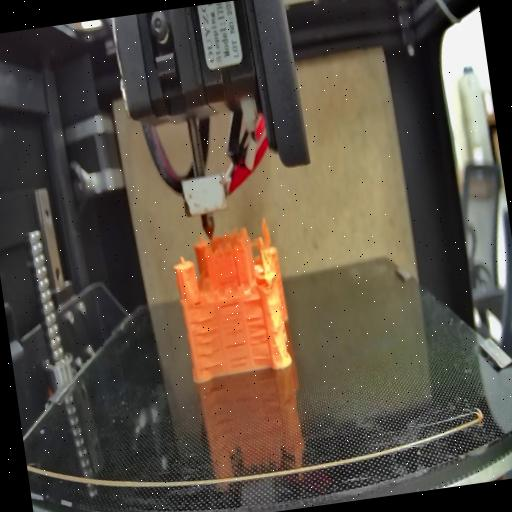cracks: (190, 314, 222, 374), (246, 314, 272, 362), (218, 301, 246, 336), (225, 342, 252, 372), (192, 292, 204, 308), (244, 297, 264, 306)
